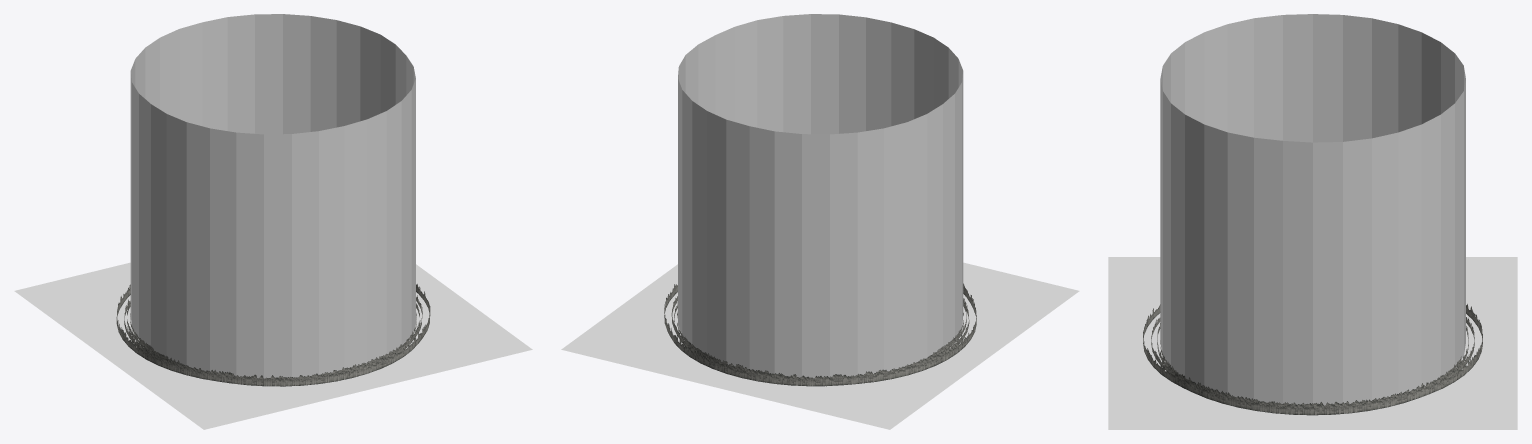
3 renders of one model, left to right at view 1: azimuth 30°, elevation 25°; view 2: azimuth 150°, elevation 25°; view 3: azimuth 270°, elevation 25°, orthographic. The views are drawn at different scales.
Visible parts, largest first — view 1: Clip, Floor, Fence; view 2: Clip, Floor, Fence; view 3: Clip, Floor, Fence.
Boxes of the visible parts, x1,y1,x2,y2 form: Clip: [130, 14, 415, 378]; Floor: [14, 262, 532, 429]; Fence: [116, 284, 430, 386]; Clip: [678, 14, 963, 378]; Floor: [561, 262, 1079, 429]; Fence: [664, 283, 976, 386]; Clip: [1160, 14, 1465, 405]; Floor: [1108, 257, 1517, 429]; Fence: [1143, 304, 1482, 415].
Bounding box in the file's own units: 8731 × 6243 × 8731.
